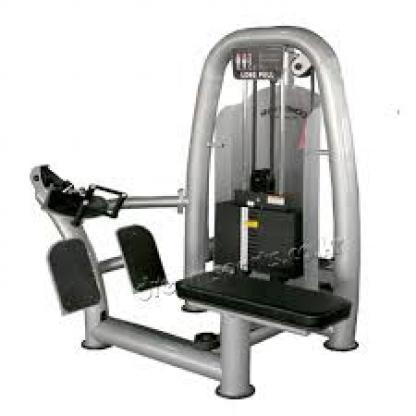Seated Cable Rows: (27, 13, 370, 407)
